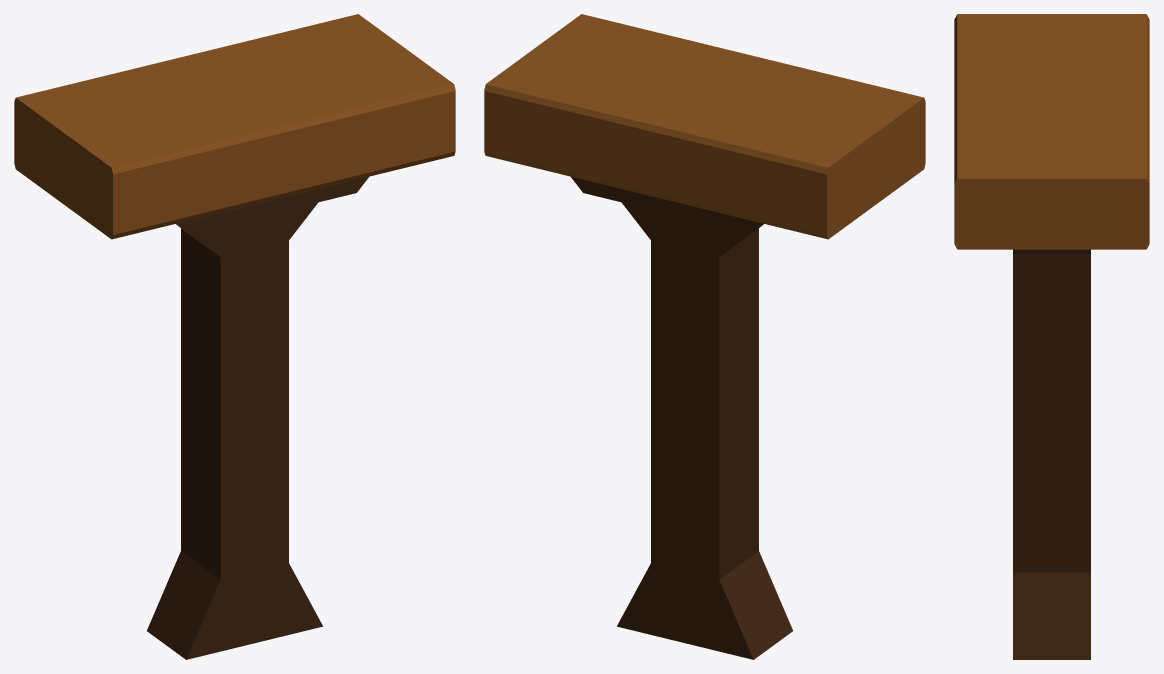
File: Handrail.fbx
3 renders of one model, left to right at view 1: azimuth 30°, elevation 25°; view 2: azimuth 150°, elevation 25°; view 3: azimuth 270°, elevation 25°, orthographic.
Parts seen in each view (by area): view 1: Handrail; view 2: Handrail; view 3: Handrail.
Part boxes in pixels (x1,y1,x2,y2): Handrail: (14,14,455,659); Handrail: (484,14,925,659); Handrail: (954,14,1149,659).
Bounding box in the file's own units: 100 × 150 × 50.
